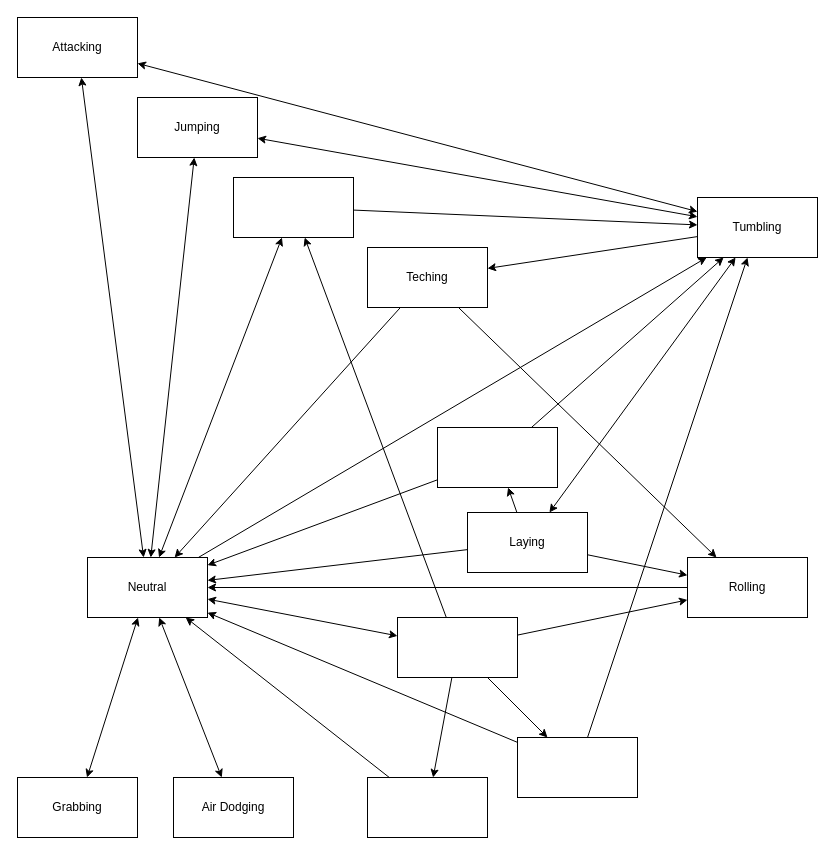
Some shapes in this 835 by 855 pixel diagram are drawn without their labels. Each missing label, with the box of its shape:
Getting Up Attack: (436, 426, 558, 488)
Grabbed: (232, 176, 354, 238)
Shielding: (396, 616, 518, 678)
Spot Dodging: (366, 776, 488, 838)
Stunned (Shield Break): (516, 736, 638, 798)
